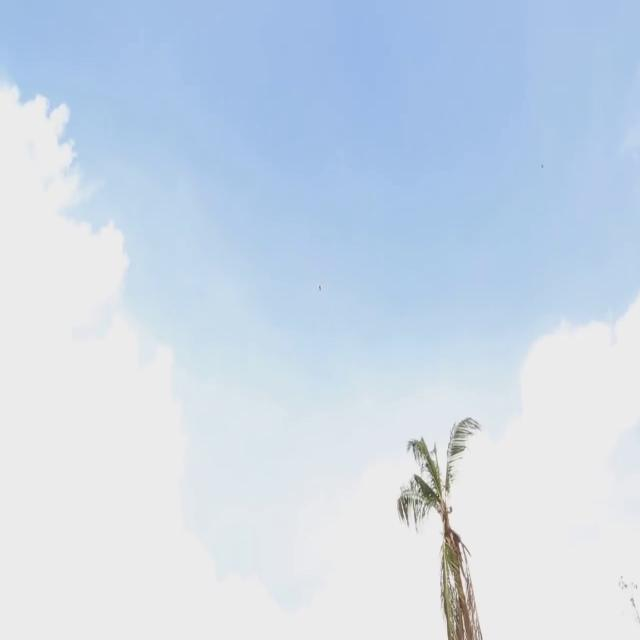drone: (314, 280, 326, 295)
